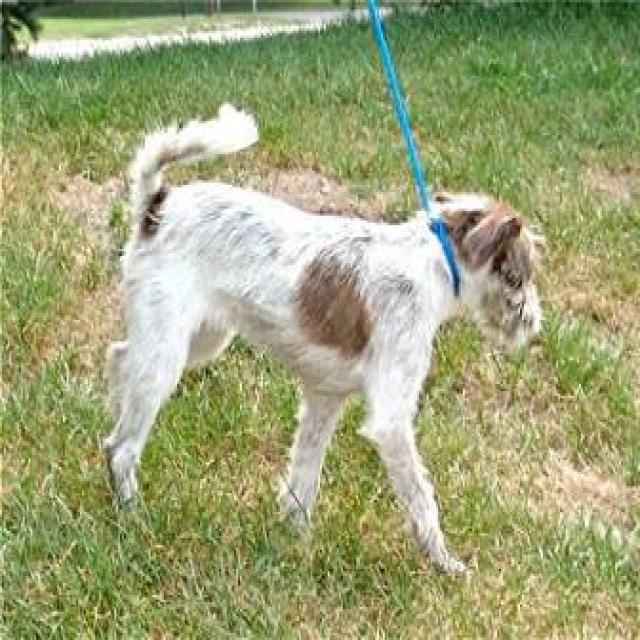dog: (99, 100, 547, 578)
